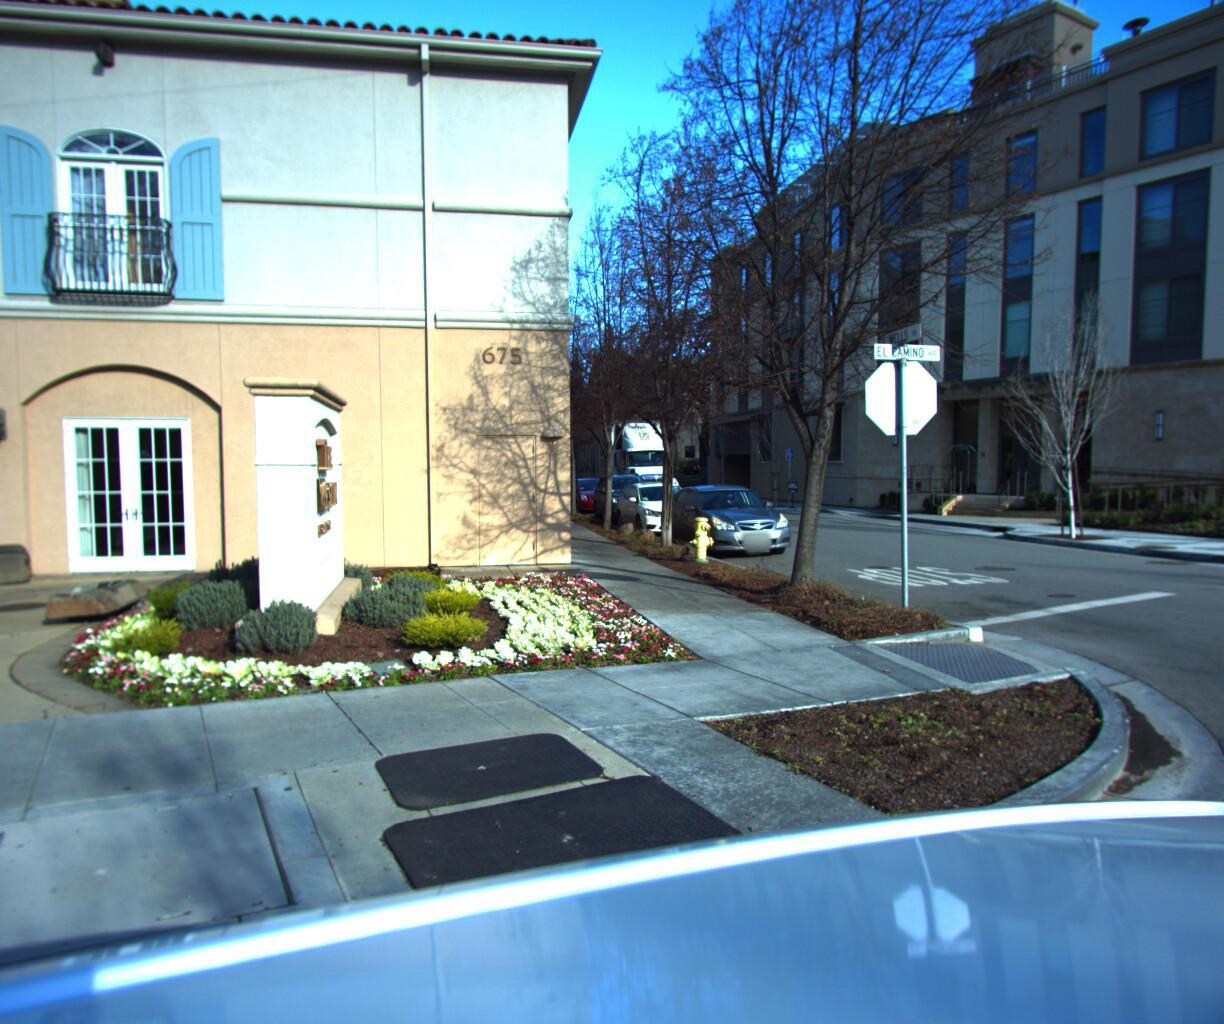car: (657, 476, 811, 560), (615, 473, 716, 537), (591, 467, 671, 522), (569, 472, 626, 511)
truck: (578, 409, 693, 509)
